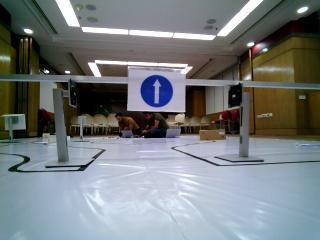straight: (124, 64, 188, 114)
